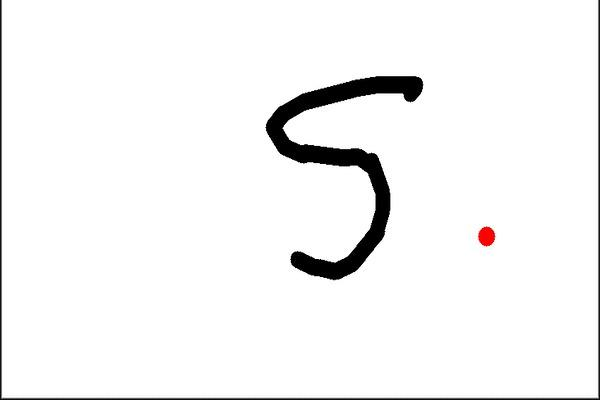S: (263, 67, 426, 287)
